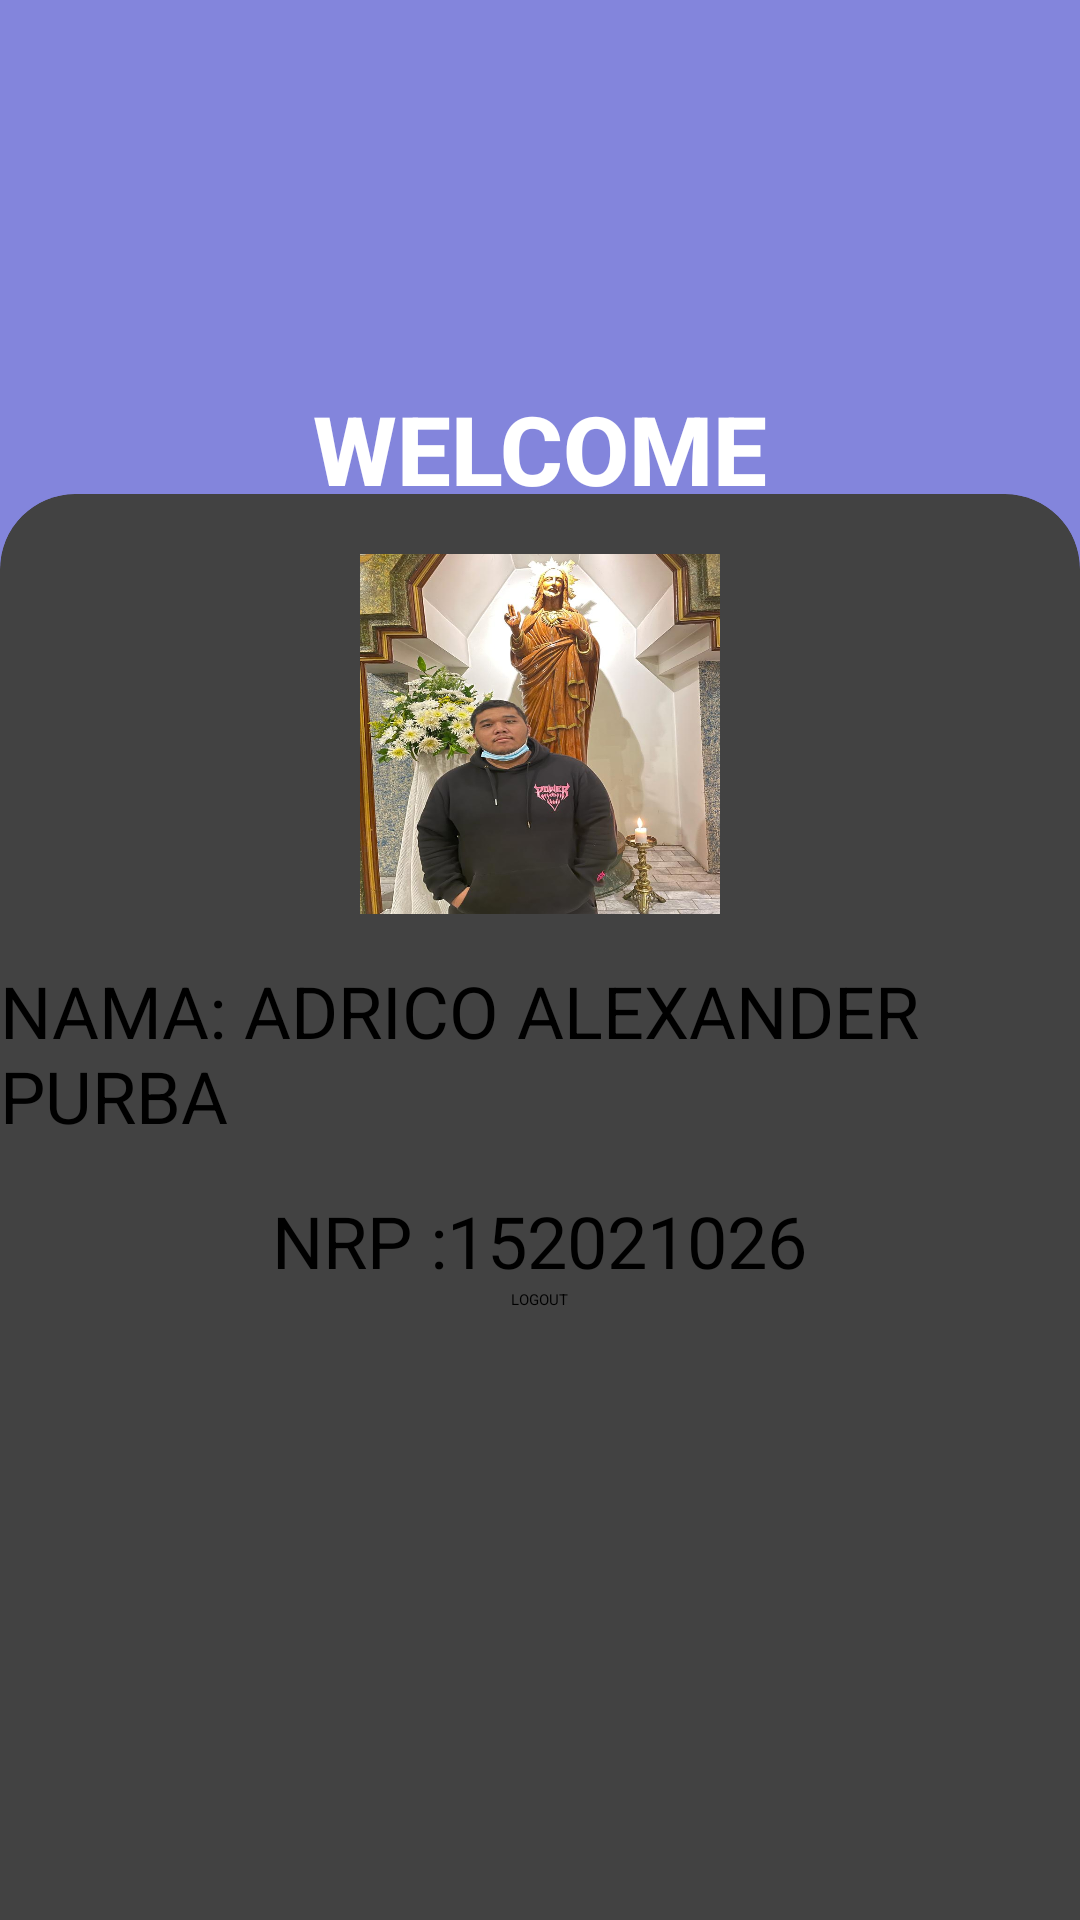

Where icons sit on this 1080×1920 app screen, as (x1, y1, x2, y2):
Profile Image: (360, 554, 720, 914)
